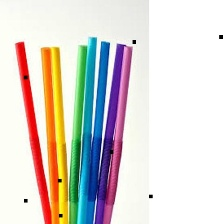drinking_straw: (9, 38, 54, 223), (100, 41, 136, 224), (66, 41, 90, 224)
